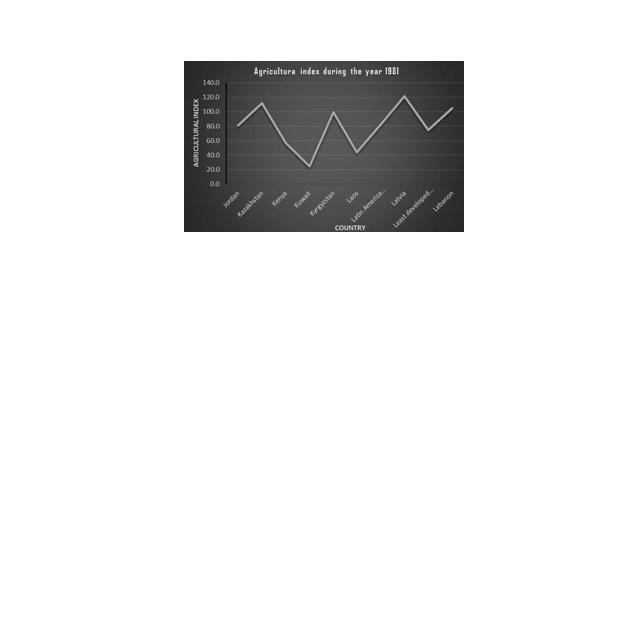Graph: (184, 61, 464, 232)
